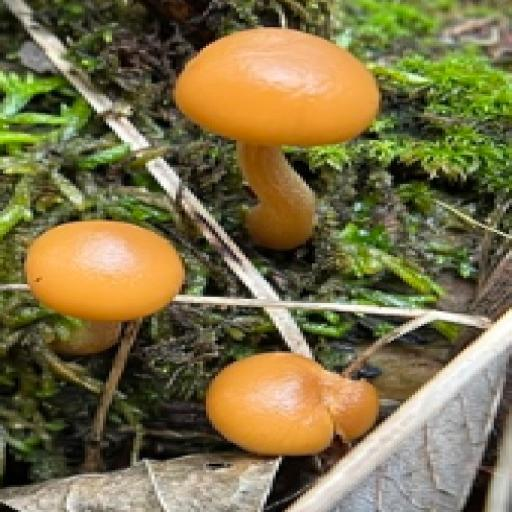mushroom: (160, 18, 416, 224), (29, 217, 194, 369), (201, 351, 405, 465)
